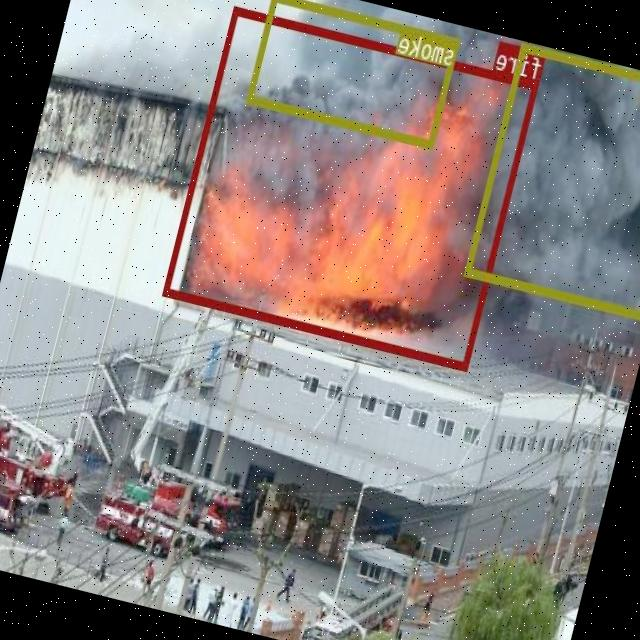fire: (162, 5, 540, 370)
smoke: (464, 41, 640, 320), (248, 0, 461, 147)
